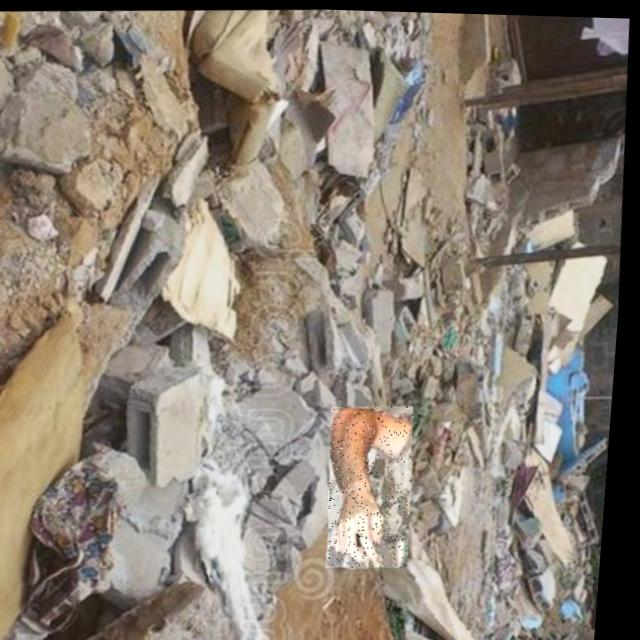Person in Rubble: (327, 401, 425, 567)
